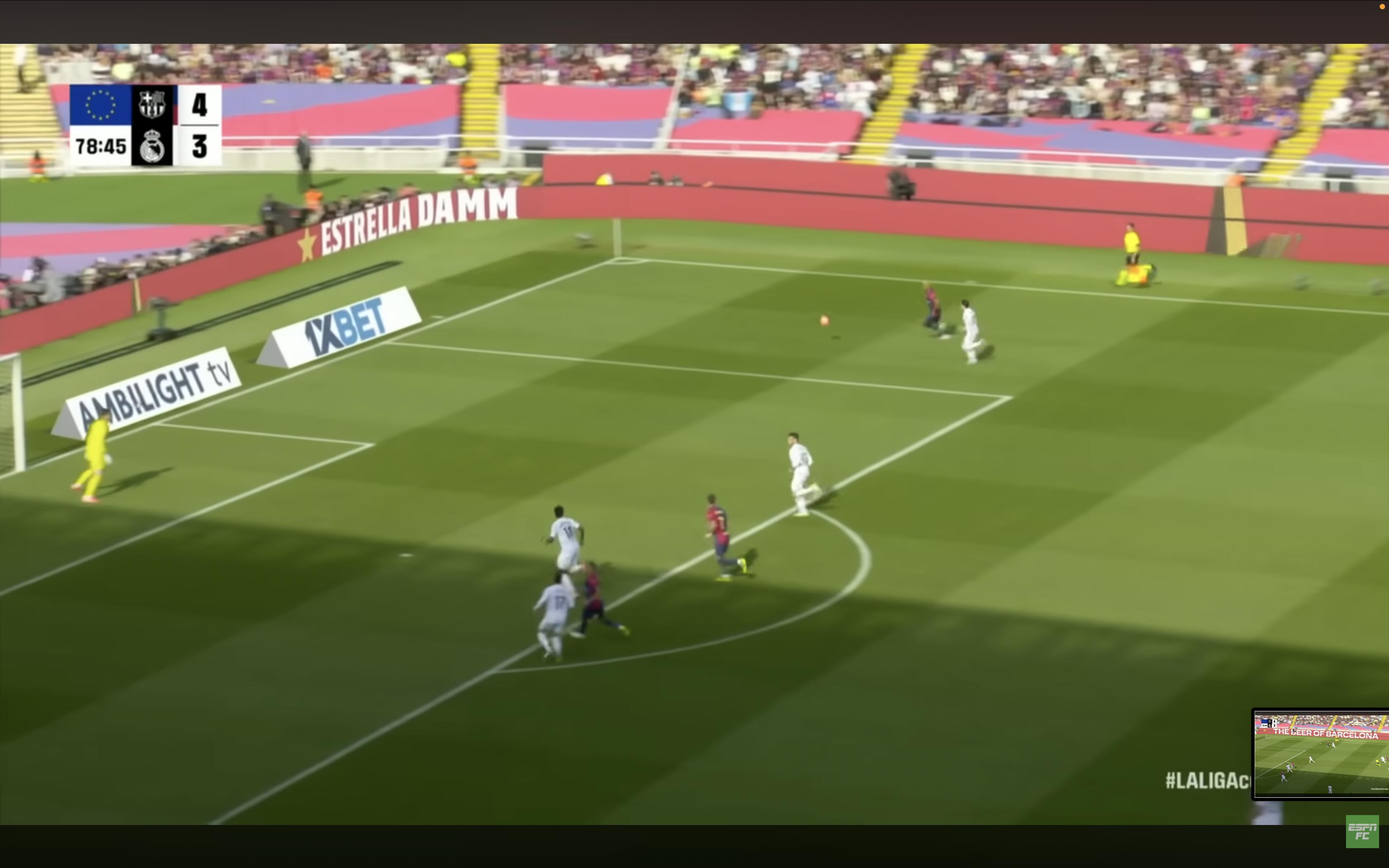ball: (820, 315, 830, 327)
goalkeeper: (71, 408, 112, 502)
player: (569, 561, 630, 638), (534, 572, 575, 661), (706, 494, 747, 581), (544, 506, 584, 594), (788, 432, 822, 517), (961, 300, 987, 364), (923, 282, 949, 339)
referee: (1115, 224, 1156, 286)
